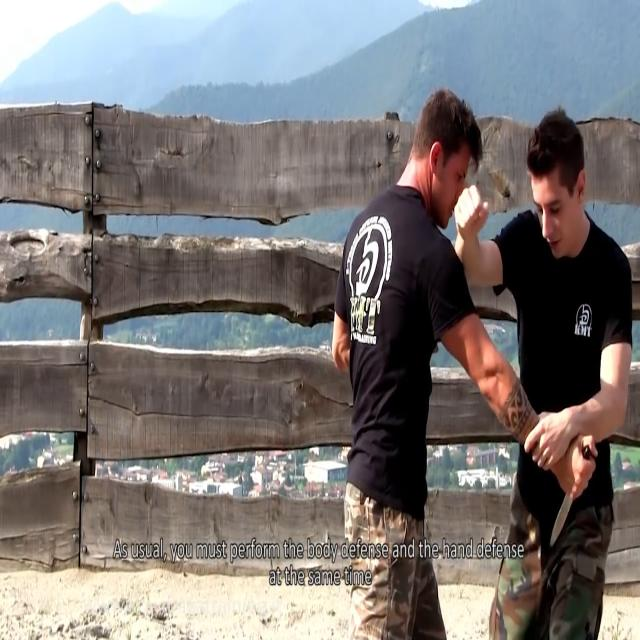knife: (549, 448, 593, 551)
